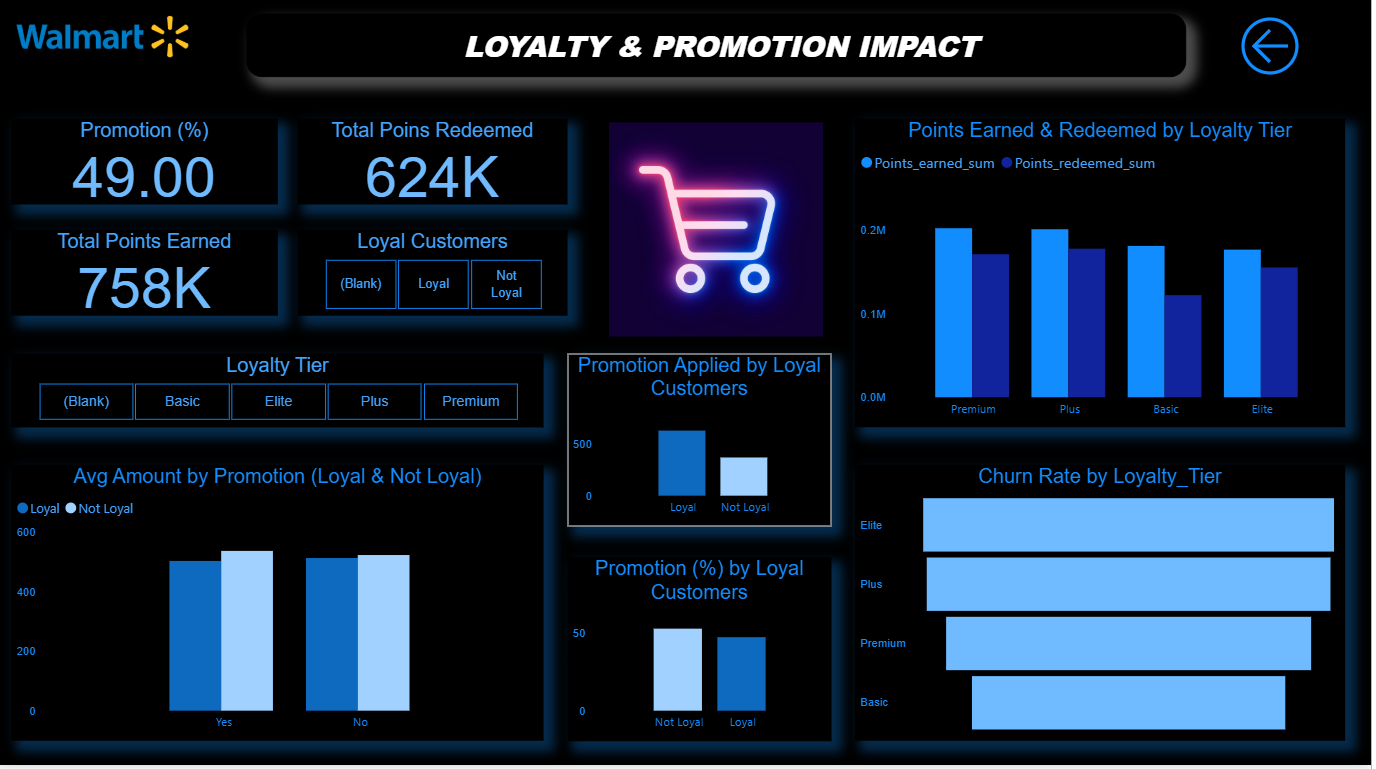

Layout of this report page (visuals, bound fields, positions):
{"tool":"powerbi","page":{"name":"Loyalty & Promotion impact ","canvas":[1280,720],"ordinal":3},"visuals":[{"type":"image","box":[15.1,12.8,169.8,59.3],"z":0},{"type":"textbox","box":[233.8,12.5,874,59.2],"z":1000},{"type":"card","title":"Promotion (%)","fields":{"Values":["Calculation Store.Transaction_%_Promotion"]},"box":[15.1,118.6,247.7,80.2],"z":2000},{"type":"image","box":[564,117.4,214,209.3],"z":3000},{"type":"actionButton","box":[1152.3,17.4,75.6,67.4],"z":4000},{"type":"clusteredColumnChart","title":"Avg Amount by Promotion (Loyal & Not Loyal) ","fields":{"Category":["Customer_Transactions.Promotion_Applied"],"Y":["Avg(Customer_Transactions.Amount)"],"Series":["Transaction_count.Loyal_Customers "]},"box":[15.1,440.7,495.4,257],"z":5000},{"type":"clusteredColumnChart","title":"Points Earned & Redeemed  by Loyalty Tier","fields":{"Y":["Calculation Store.Points_earned_sum","Calculation Store.Points_redeemed_sum"],"Category":["Loyalty_Program.Loyalty_Tier"]},"box":[800,118.6,455.8,287.2],"z":6000},{"type":"funnel","fields":{"Category":["Loyalty_Program.Loyalty_Tier"],"Y":["Calculation Store.Churn Rate"]},"box":[800,440.7,455.8,257],"z":7000},{"type":"slicer","title":"Loyal Customers","fields":{"Values":["Transaction_count.Loyal_Customers "]},"box":[281.4,222.1,251.2,80.2],"z":8000},{"type":"slicer","title":"Loyalty Tier","fields":{"Values":["Loyalty_Program.Loyalty_Tier"]},"box":[15.1,337.2,495.4,68.6],"z":9000},{"type":"card","title":"Total Points Earned","fields":{"Values":["Calculation Store.Points_earned_sum"]},"box":[15.1,222.1,247.7,80.2],"z":10000},{"type":"card","title":"Total Poins Redeemed","fields":{"Values":["Calculation Store.Points_redeemed_sum"]},"box":[281.4,118.6,251.2,80.2],"z":11000},{"type":"columnChart","title":"Promotion (%) by Loyal Customers","fields":{"Y":["Calculation Store.Transaction_%_Promotion"],"Category":["Transaction_count.Loyal_Customers "]},"box":[532.6,526.7,245.3,170.9],"z":12000},{"type":"clusteredColumnChart","title":"Promotion Applied by Loyal Customers","fields":{"Category":["Transaction_count.Loyal_Customers "],"Y":["CountNonNull(Customer_Transactions.Promotion_Applied)"],"Series":["Customer_Transactions.Promotion_Applied"]},"box":[532.6,337.2,245.3,160.5],"z":13000}]}

Visuals, with their boxes in screenshot pixels (x1, y1, x2, y2), scaled from the page's 1280x720 canvas onto the 1376x769 screenshot:
image: <box>16,14,199,77</box>
textbox: <box>251,13,1191,77</box>
"Promotion (%)" card: <box>16,127,283,212</box>
image: <box>606,125,836,349</box>
actionButton: <box>1239,19,1320,91</box>
"Avg Amount by Promotion (Loyal & Not Loyal) " clusteredColumnChart: <box>16,471,549,745</box>
"Points Earned & Redeemed  by Loyalty Tier" clusteredColumnChart: <box>860,127,1350,433</box>
funnel - Loyalty_Program.Loyalty_Tier x Calculation Store.Churn Rate: <box>860,471,1350,745</box>
"Loyal Customers" slicer: <box>303,237,573,323</box>
"Loyalty Tier" slicer: <box>16,360,549,433</box>
"Total Points Earned" card: <box>16,237,283,323</box>
"Total Poins Redeemed" card: <box>303,127,573,212</box>
"Promotion (%) by Loyal Customers" columnChart: <box>573,563,836,745</box>
"Promotion Applied by Loyal Customers" clusteredColumnChart: <box>573,360,836,532</box>
